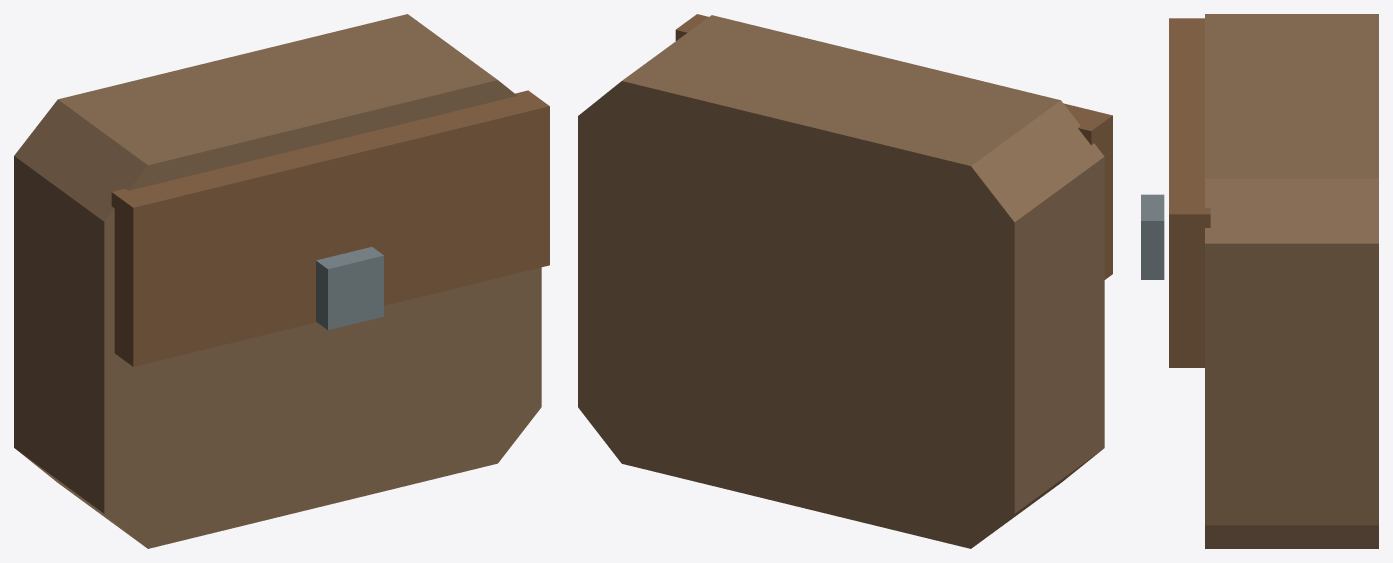
Rendered from L-46_bolt_wallet.glb.
3 renders of one model, left to right at view 1: azimuth 30°, elevation 25°; view 2: azimuth 150°, elevation 25°; view 3: azimuth 270°, elevation 25°, orthographic. The views are drawn at different scales.
Parts seen in each view (by area): view 1: L-46_bolt_wallet; view 2: L-46_bolt_wallet; view 3: L-46_bolt_wallet.
Part boxes in pixels (left/top/right/bottom): L-46_bolt_wallet: left=14, top=14, right=549, bottom=548; L-46_bolt_wallet: left=578, top=14, right=1112, bottom=548; L-46_bolt_wallet: left=1141, top=14, right=1378, bottom=548.
Size of the model in its own units: 0.21 by 0.176 by 0.1025.
